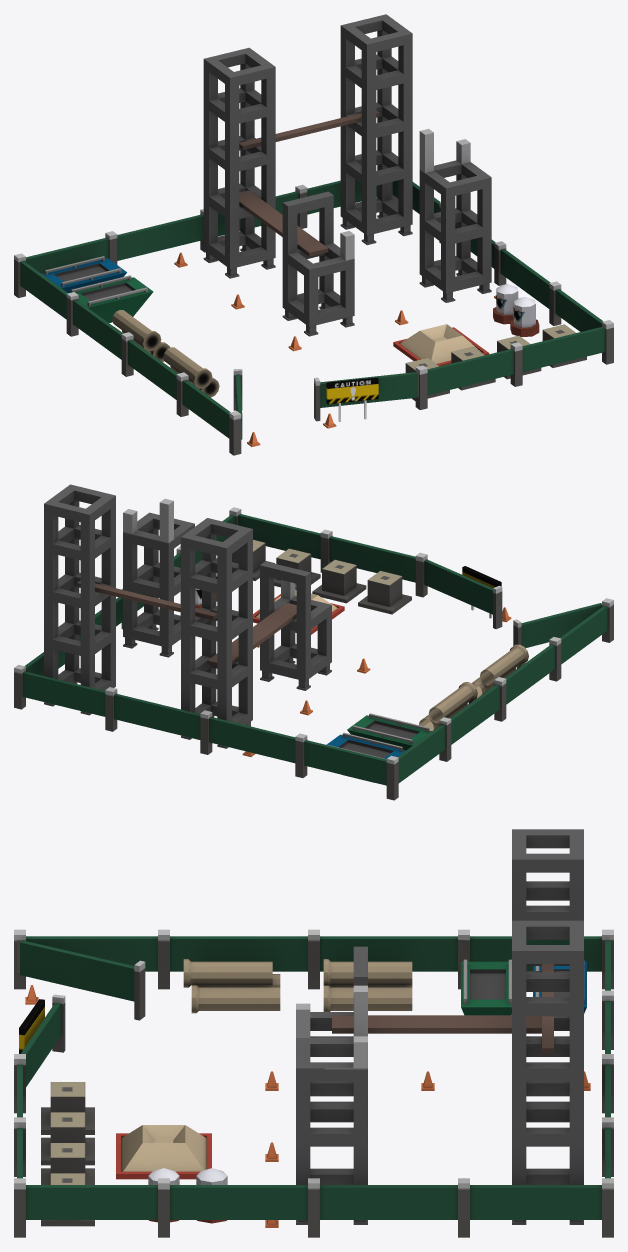
File: Construction.fbx
3 renders of one model, top to bottom at view 1: azimuth 30°, elevation 25°; view 2: azimuth 150°, elevation 25°; view 3: azimuth 270°, elevation 25°, orthographic. The views are drawn at different scales.
Parts seen in each view (by area): view 1: Construction1:pCube112; view 2: Construction1:pCube112; view 3: Construction1:pCube112.
Boxes of the visible parts, x1,y1,x2,y2 form: Construction1:pCube112: [14, 14, 613, 455]; Construction1:pCube112: [14, 484, 613, 800]; Construction1:pCube112: [14, 829, 613, 1237].
Size of the model in its own units: 50 by 25.2 by 50.
